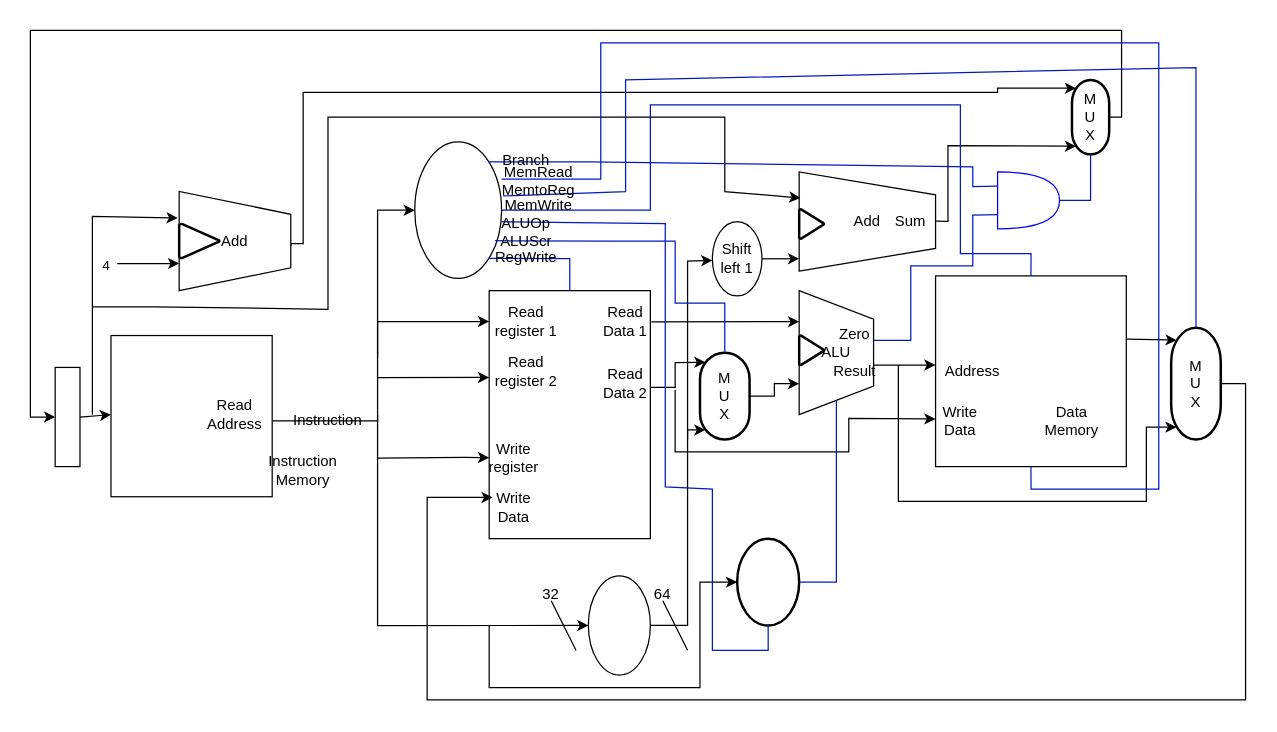
The diagram is 1277 pixels wide and 732 high, and some of its shapes have lost their labels. The shapes that lost their labels are listed below. From the top down, each one's centre as x and y in pixels, then its label:
At (x=458, y=209): "Control".
At (x=67, y=416): "PC".
At (x=767, y=581): "ALU control".
At (x=618, y=625): "Imm Gen".
